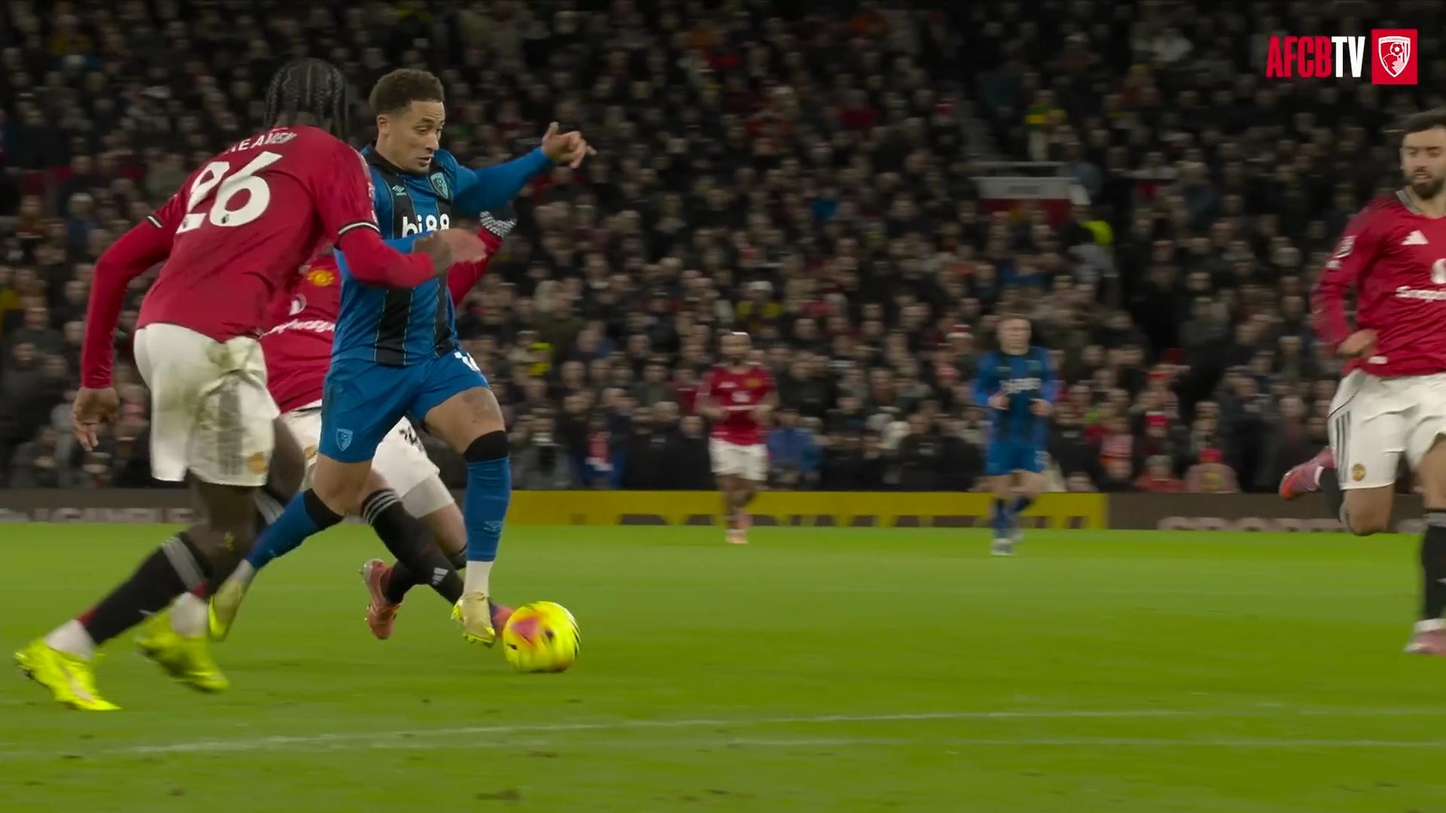football: (502, 601, 579, 672)
player: (16, 59, 466, 710), (209, 250, 510, 644), (1281, 110, 1445, 655), (974, 315, 1057, 555), (261, 255, 340, 467), (697, 332, 776, 544), (261, 254, 339, 467)
